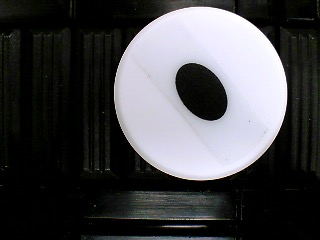BOHOEL: (113, 6, 288, 181)
